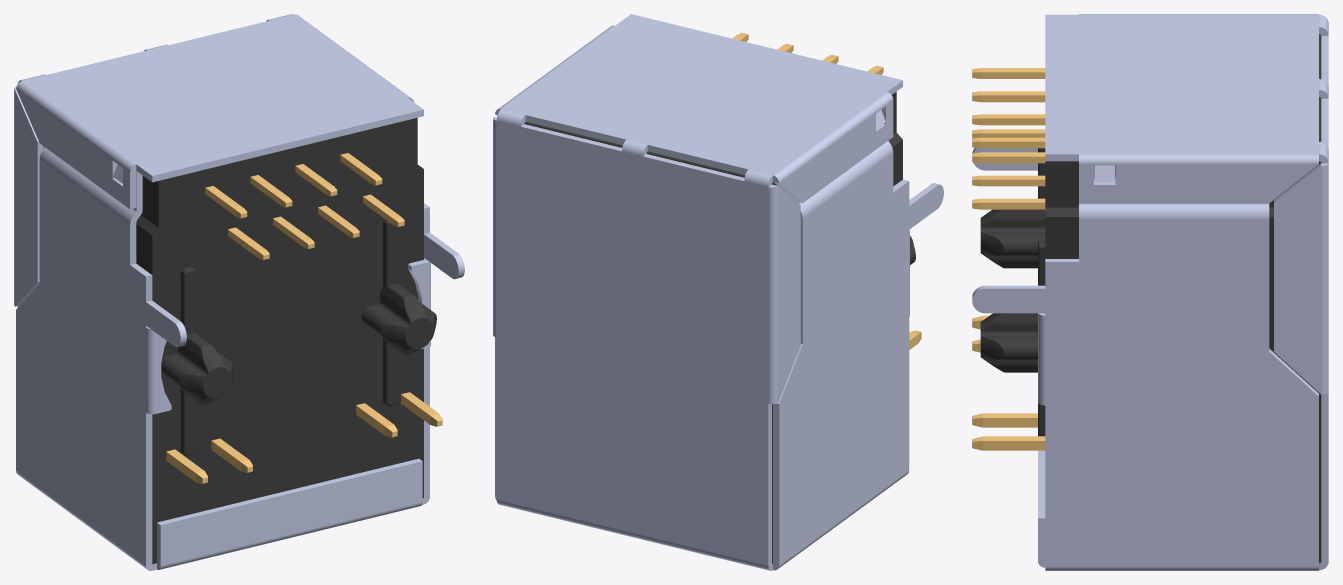
3 renders of one model, left to right at view 1: azimuth 30°, elevation 25°; view 2: azimuth 150°, elevation 25°; view 3: azimuth 270°, elevation 25°, orthographic. The views are drawn at different scales.
Visible parts, largest first — view 1: HR911105A_outer_shield, HR911105A_inner_023, HR911105A_pin_002, HR911105A_pin_001, HR911105A_pin_012, HR911105A_pin_011, HR911105A_pin_003, HR911105A_pin_005, HR911105A_pin_006, HR911105A_pin_007; view 2: HR911105A_outer_shield, HR911105A_inner_023; view 3: HR911105A_outer_shield, HR911105A_inner_023, HR911105A_pin_011, HR911105A_pin_012, HR911105A_pin_006, HR911105A_pin_007, HR911105A_pin_008, HR911105A_pin_009, HR911105A_pin_005, HR911105A_pin_010, HR911105A_pin_003, HR911105A_pin_004.
Boxes of the visible parts, x1,y1,x2,y2 form: HR911105A_outer_shield: [14, 14, 464, 570]; HR911105A_inner_023: [43, 118, 436, 564]; HR911105A_pin_002: [211, 438, 252, 472]; HR911105A_pin_001: [166, 449, 207, 483]; HR911105A_pin_012: [356, 403, 397, 437]; HR911105A_pin_011: [401, 392, 442, 426]; HR911105A_pin_003: [205, 186, 247, 218]; HR911105A_pin_005: [250, 175, 292, 207]; HR911105A_pin_006: [295, 164, 337, 196]; HR911105A_pin_007: [340, 153, 382, 185]; HR911105A_outer_shield: [493, 14, 943, 570]; HR911105A_inner_023: [524, 91, 915, 563]; HR911105A_outer_shield: [972, 14, 1328, 570]; HR911105A_inner_023: [980, 34, 1321, 563]; HR911105A_pin_011: [972, 436, 1045, 450]; HR911105A_pin_012: [972, 413, 1037, 427]; HR911105A_pin_006: [972, 114, 1045, 125]; HR911105A_pin_007: [972, 137, 1045, 148]; HR911105A_pin_008: [972, 152, 1045, 163]; HR911105A_pin_009: [972, 175, 1045, 186]; HR911105A_pin_005: [972, 91, 1045, 102]; HR911105A_pin_010: [972, 198, 1045, 209]; HR911105A_pin_003: [972, 68, 1045, 78]; HR911105A_pin_004: [972, 129, 1045, 138].
Size of the model in its own units: 0.016 by 0.0213 by 0.0166.
